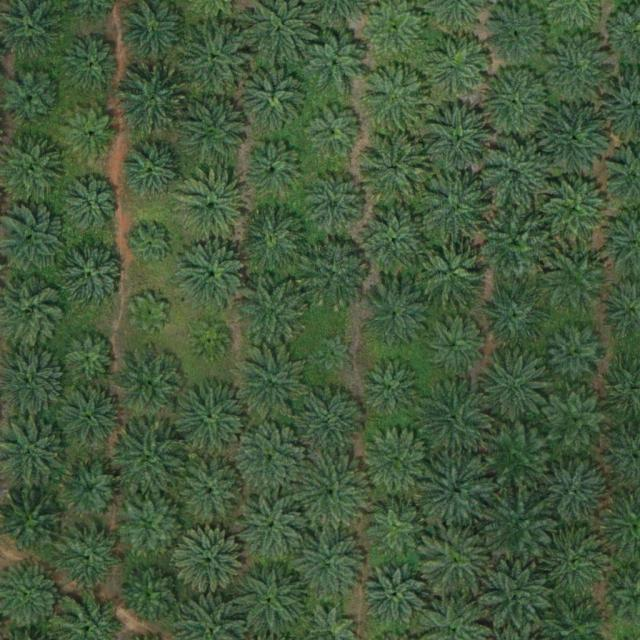Healthy: (115, 66, 186, 137), (119, 134, 190, 205), (362, 65, 433, 136), (479, 420, 550, 491), (420, 380, 491, 451), (420, 456, 491, 527), (176, 527, 247, 598), (236, 564, 307, 635), (182, 24, 252, 95), (180, 94, 250, 165), (241, 136, 311, 207), (357, 134, 428, 204), (425, 105, 495, 176), (545, 32, 615, 103), (540, 101, 610, 172), (541, 177, 612, 247), (542, 246, 612, 317), (539, 458, 609, 529), (423, 176, 493, 247), (417, 238, 488, 308), (360, 208, 431, 278), (362, 283, 432, 354), (299, 242, 369, 313), (297, 457, 367, 528), (239, 206, 309, 277), (235, 346, 305, 417), (237, 423, 308, 493), (178, 242, 248, 313), (176, 384, 247, 454), (116, 426, 186, 497), (55, 386, 125, 457), (234, 493, 305, 563), (294, 531, 364, 602), (421, 527, 492, 597), (484, 489, 554, 560), (480, 564, 551, 634), (544, 526, 614, 597), (177, 173, 247, 243), (241, 63, 311, 133), (480, 70, 550, 140), (481, 140, 551, 210), (482, 209, 552, 279), (479, 279, 549, 349), (481, 349, 551, 419), (362, 428, 432, 498), (296, 387, 366, 457), (241, 277, 311, 347), (176, 458, 246, 528), (116, 350, 186, 420), (59, 242, 129, 312), (425, 35, 488, 98), (122, 494, 185, 557), (365, 494, 428, 557), (303, 31, 365, 94), (305, 174, 367, 237), (546, 325, 608, 388), (546, 389, 608, 452), (60, 459, 122, 522), (123, 563, 185, 626), (363, 563, 425, 626), (61, 35, 123, 97), (424, 314, 486, 376), (360, 357, 422, 419), (62, 525, 124, 587), (64, 108, 119, 163), (64, 180, 119, 235), (308, 106, 363, 161), (63, 330, 118, 385)
Small: (133, 225, 173, 265), (314, 334, 353, 374), (130, 295, 170, 334), (191, 322, 230, 361)
